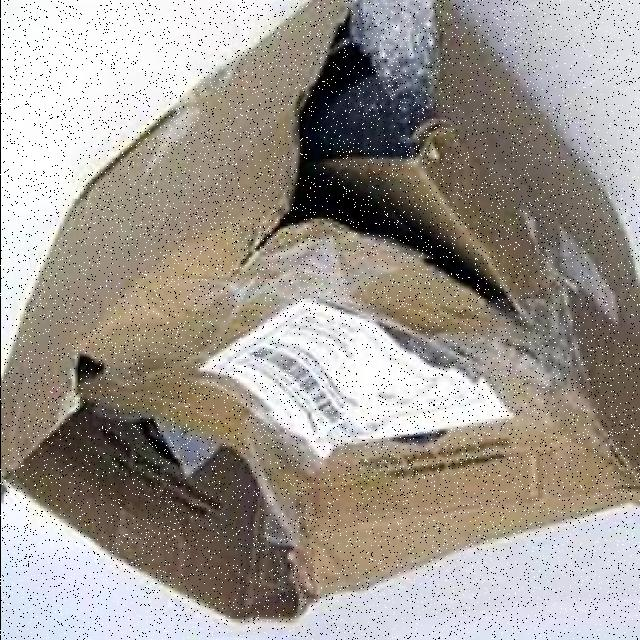defect: (0, 5, 637, 623)
